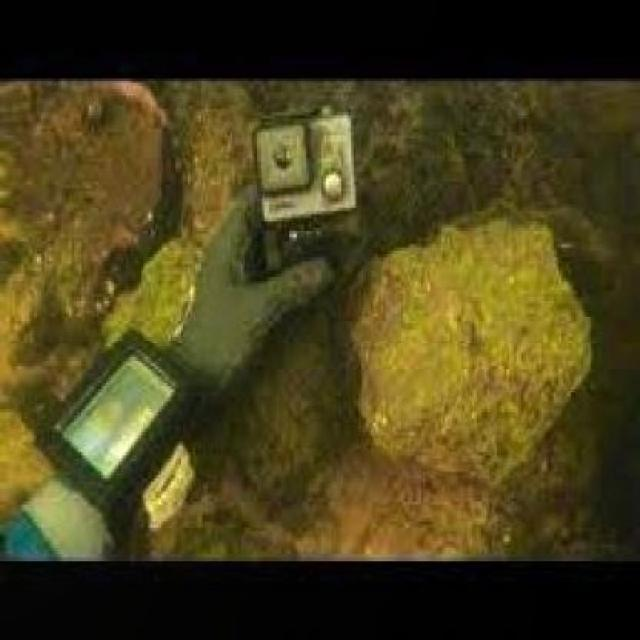electronics: (248, 106, 363, 228)
